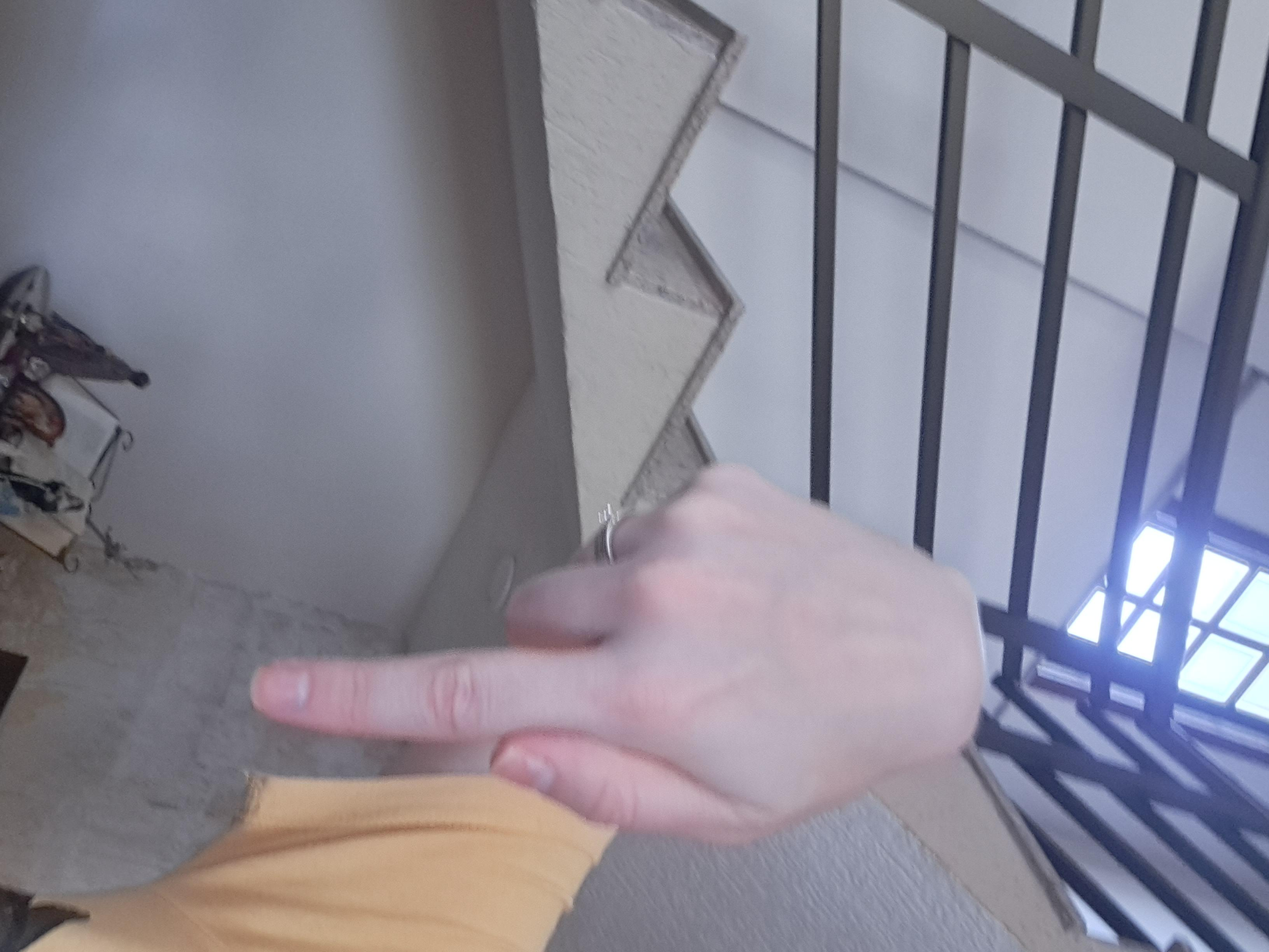Q: (622, 204, 1130, 779)
